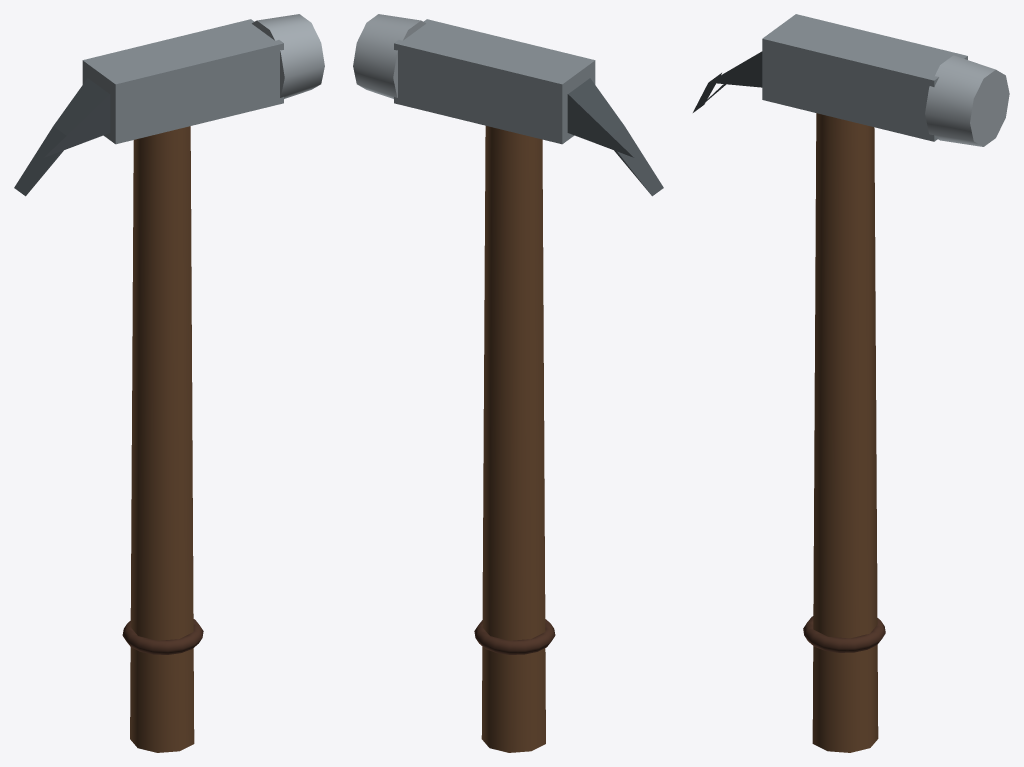
The model's file is light-hammer.glb.
3 renders of one model, left to right at view 1: azimuth 30°, elevation 25°; view 2: azimuth 150°, elevation 25°; view 3: azimuth 330°, elevation 25°, orthographic. The views are drawn at different scales.
Parts seen in each view (by area): view 1: light-hammer-grip, light-hammer-head, light-hammer-claw, light-hammer-face, light-hammer-grip-wrap; view 2: light-hammer-grip, light-hammer-head, light-hammer-claw, light-hammer-face, light-hammer-grip-wrap; view 3: light-hammer-grip, light-hammer-head, light-hammer-face, light-hammer-grip-wrap, light-hammer-claw.
Boxes of the visible parts, x1,y1,x2,y2 form: light-hammer-grip: (130,126,194,752); light-hammer-head: (82,19,283,144); light-hammer-claw: (14,78,110,196); light-hammer-face: (252,14,324,98); light-hammer-grip-wrap: (122,619,203,654); light-hammer-grip: (481,126,545,752); light-hammer-head: (394,19,595,144); light-hammer-claw: (567,78,663,196); light-hammer-face: (353,14,425,98); light-hammer-grip-wrap: (474,619,555,654); light-hammer-grip: (812,113,878,752); light-hammer-head: (762,14,967,141); light-hammer-face: (925,55,1009,146); light-hammer-grip-wrap: (803,616,885,652); light-hammer-claw: (693,51,762,112).
Bounding box in the file's own units: 0.1318 × 0.3041 × 0.0342.
